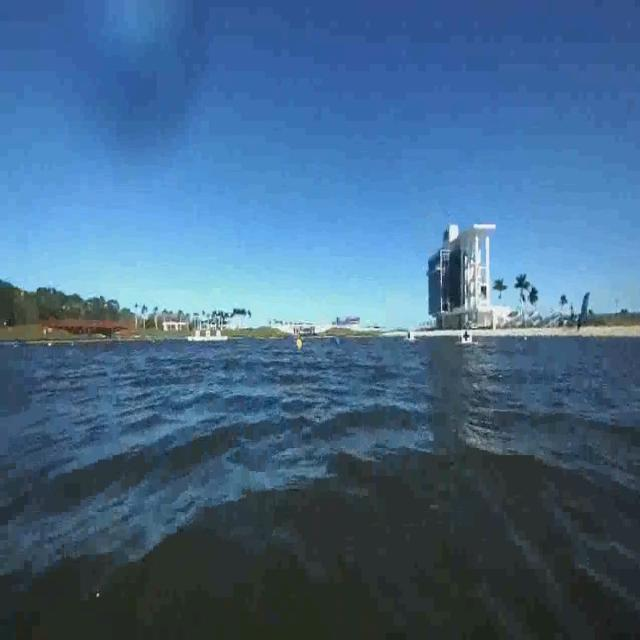blue-buoy: (334, 337, 340, 348)
yellow-buoy: (295, 338, 302, 352)
